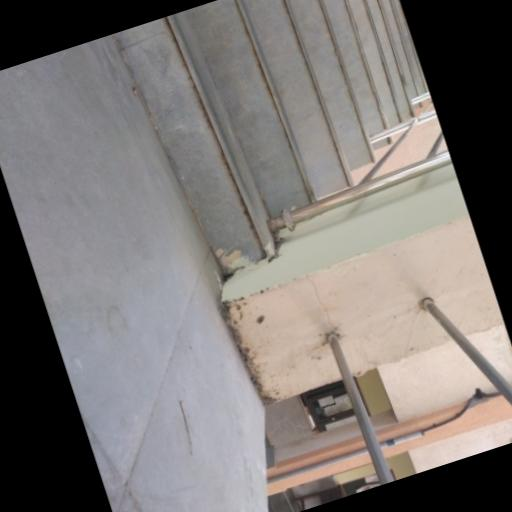stairs: (114, 0, 426, 273)
